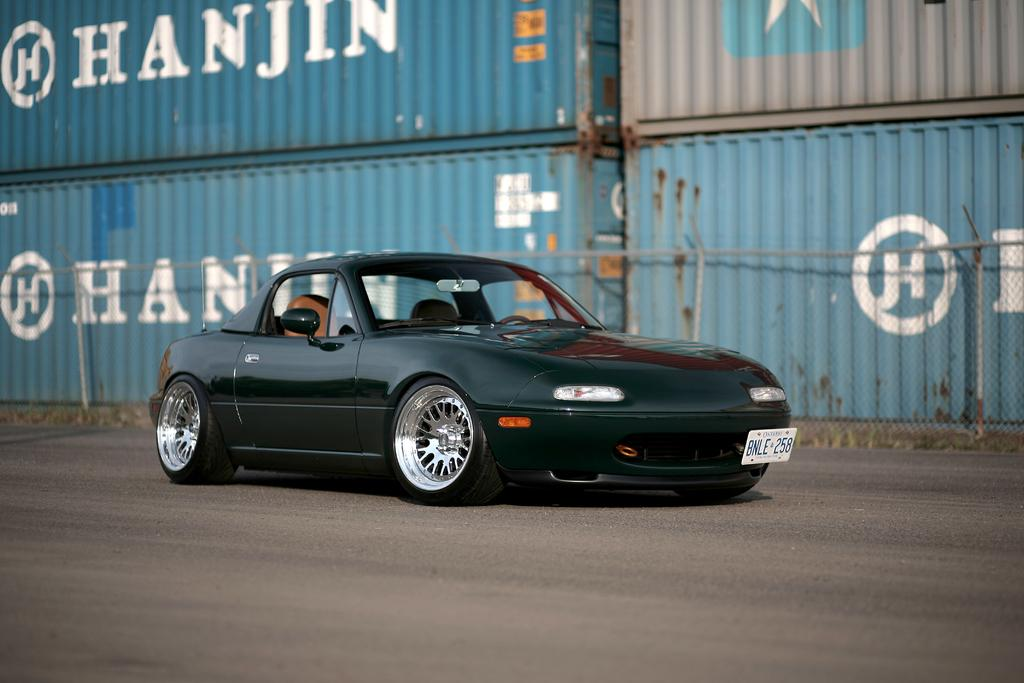Car: (143, 248, 802, 506)
